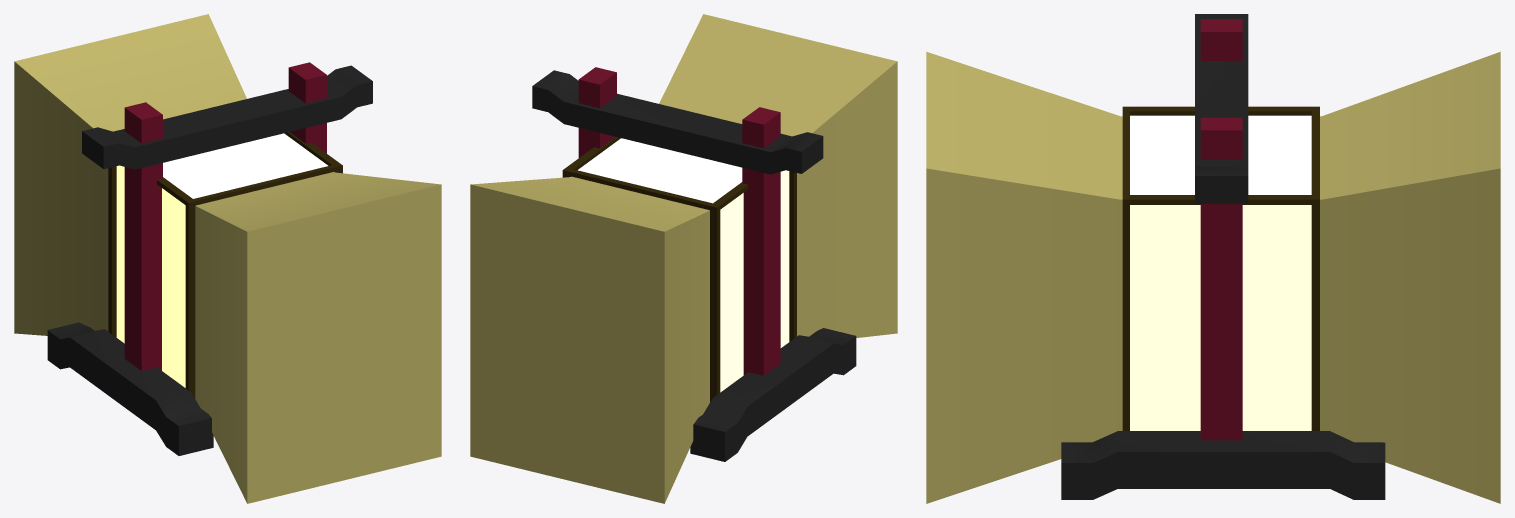
3 views of the same model, side by side, from view 1: azimuth 30°, elevation 25°; view 2: azimuth 150°, elevation 25°; view 3: azimuth 270°, elevation 25° (orthographic). The views are drawn at different scales.
Parts seen in each view (by area): view 1: pCube23, pCube22; view 2: pCube23, pCube22; view 3: pCube23, pCube22.
Part boxes in pixels (x1,y1,x2,y2): pCube23: [14, 14, 441, 503]; pCube22: [47, 62, 372, 455]; pCube23: [470, 14, 897, 503]; pCube22: [532, 67, 856, 461]; pCube23: [926, 51, 1500, 503]; pCube22: [1061, 14, 1385, 499].
Size of the model in its own units: 4.29 by 4.59 by 6.42.
Materials: 3 (2 with a texture image).
